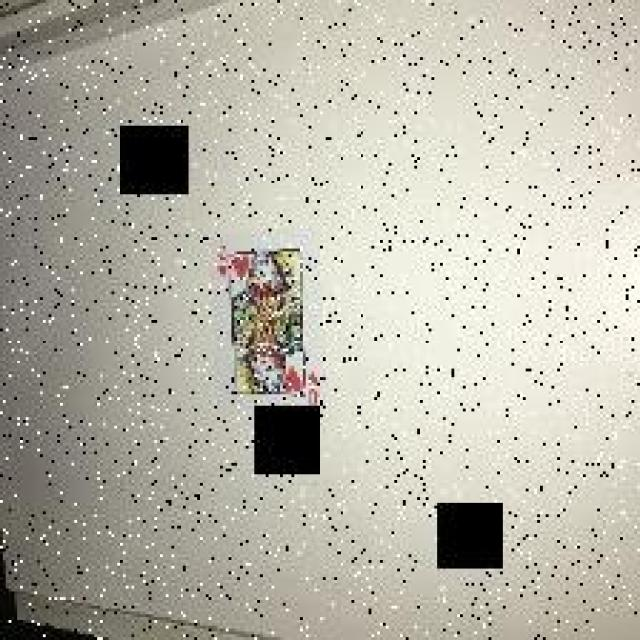Queen of hearts: (211, 240, 324, 415)
